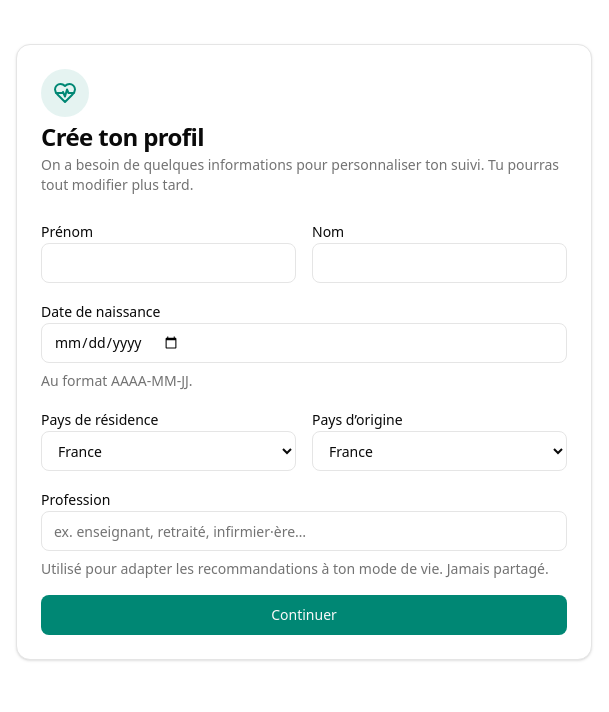
Test: <OnboardingPage /> › shows validation errors on empty submit
Step 1. Click the button "Continuer" → x=304, y=615, box [41,595,567,635]
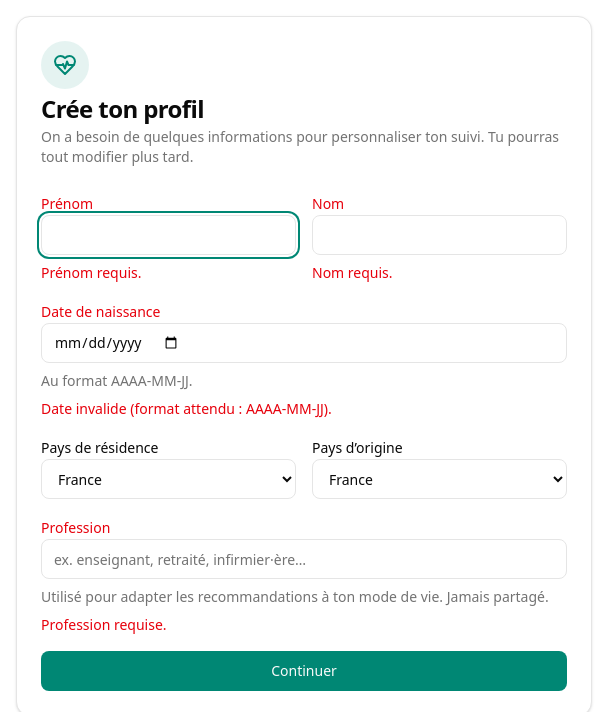
Expected: the text "Prénom requis." is shown, [41,263,142,282]
Expected: the text "Nom requis." is shown, [312,263,393,282]
Expected: the text "Profession requise." is shown, [41,615,167,634]
